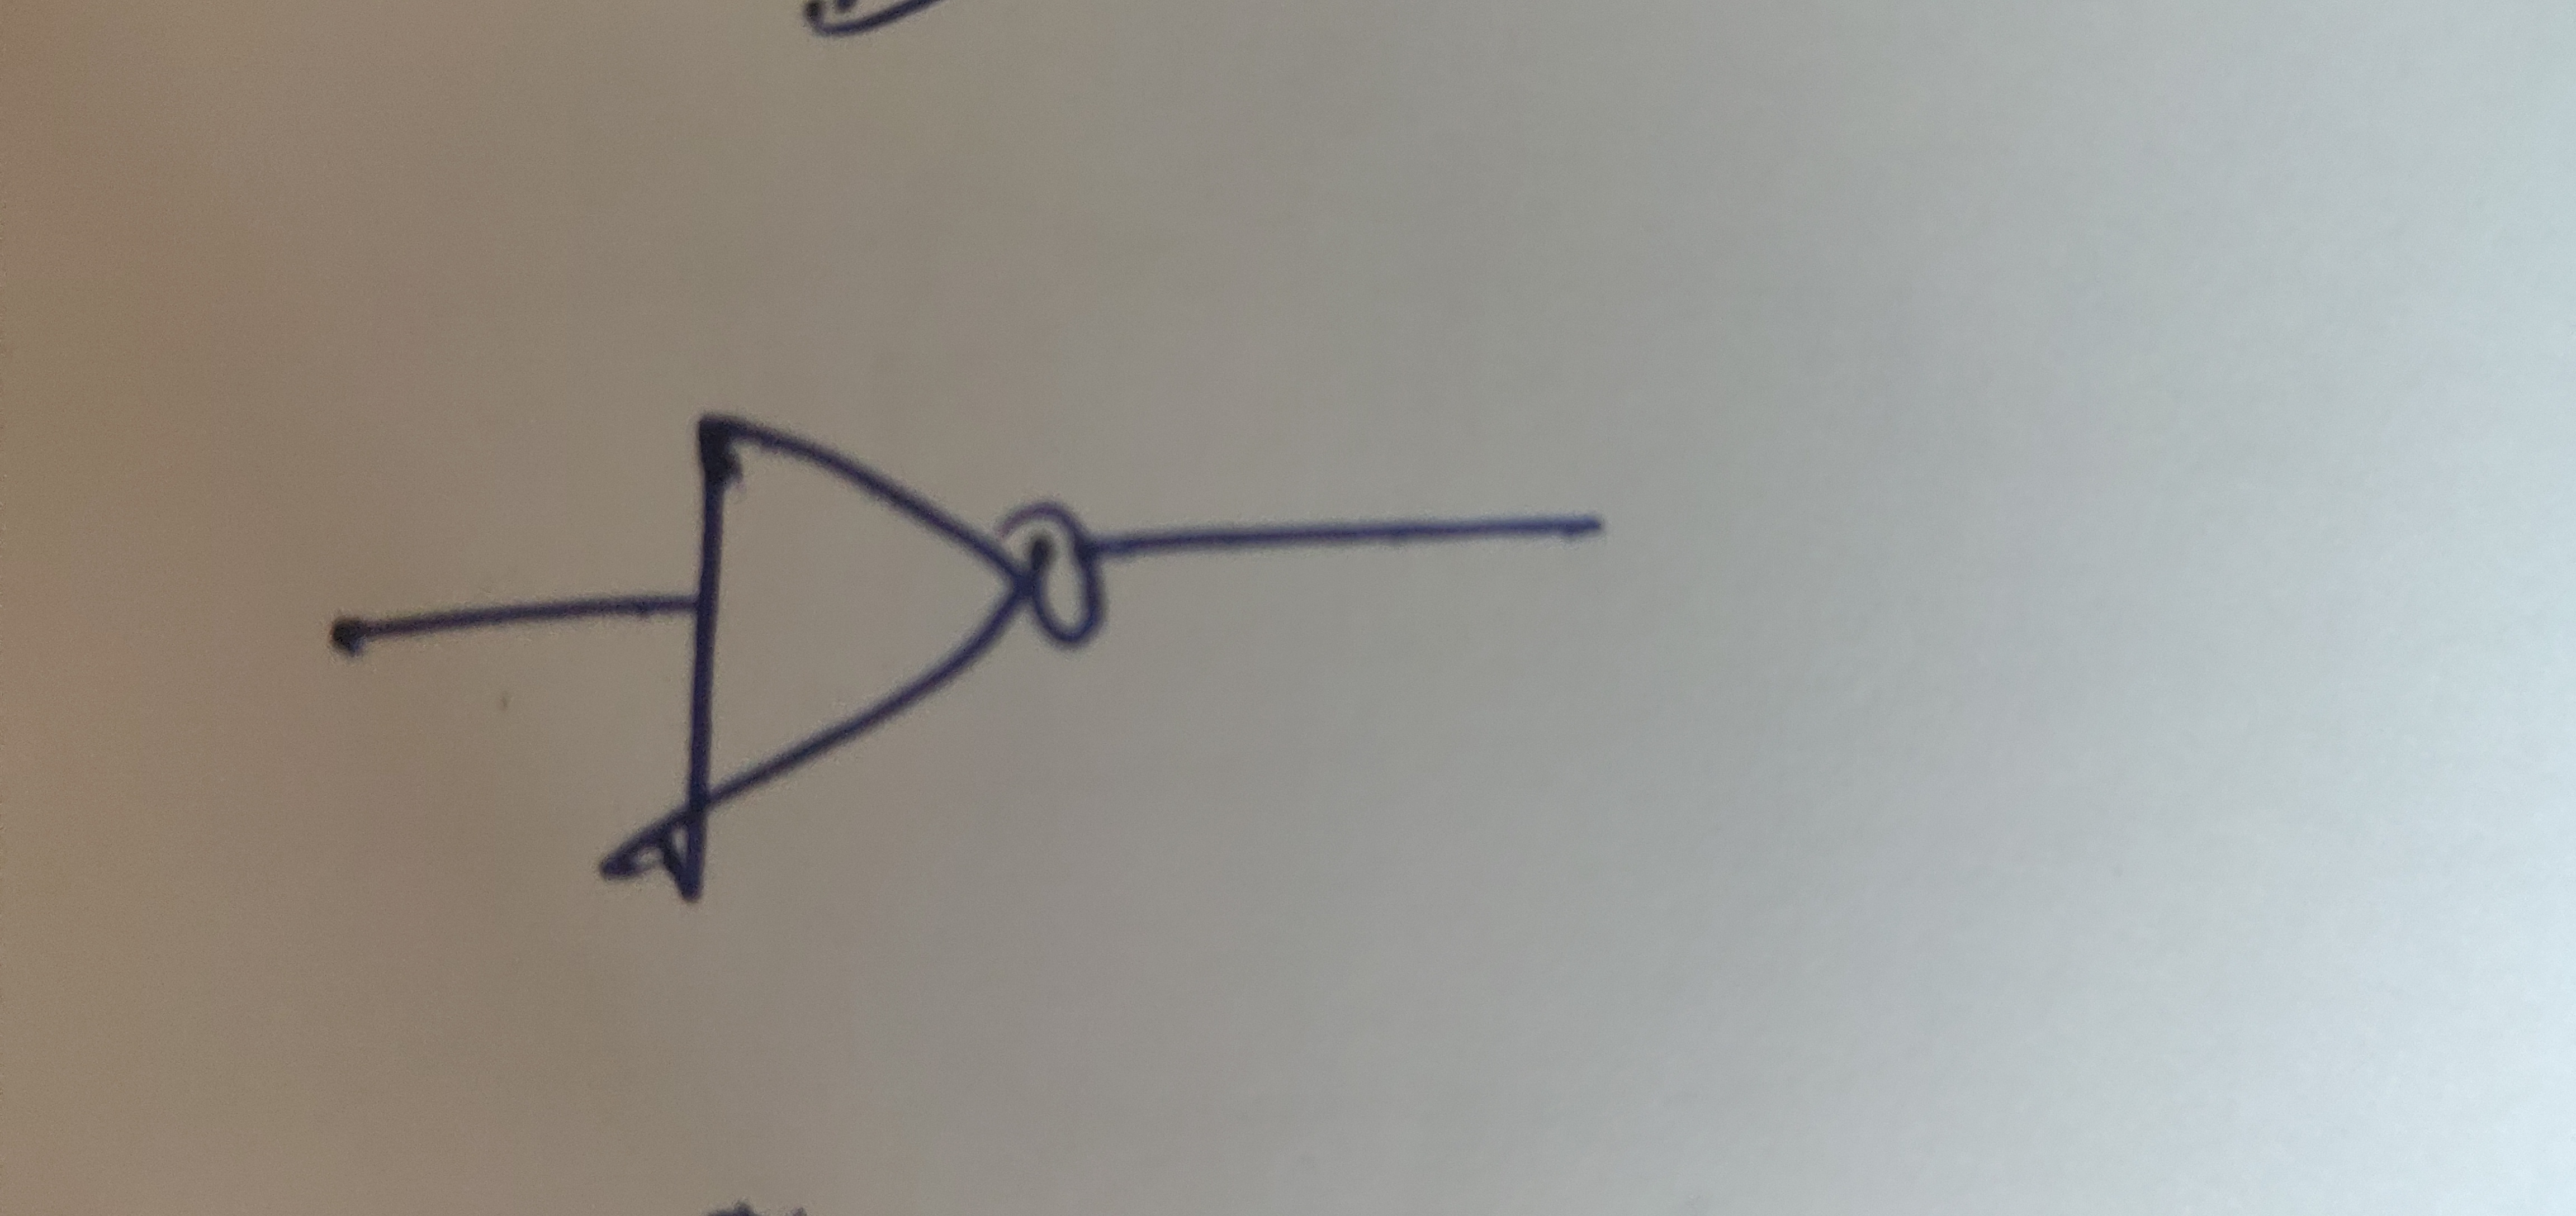not: (547, 365, 1288, 947)
